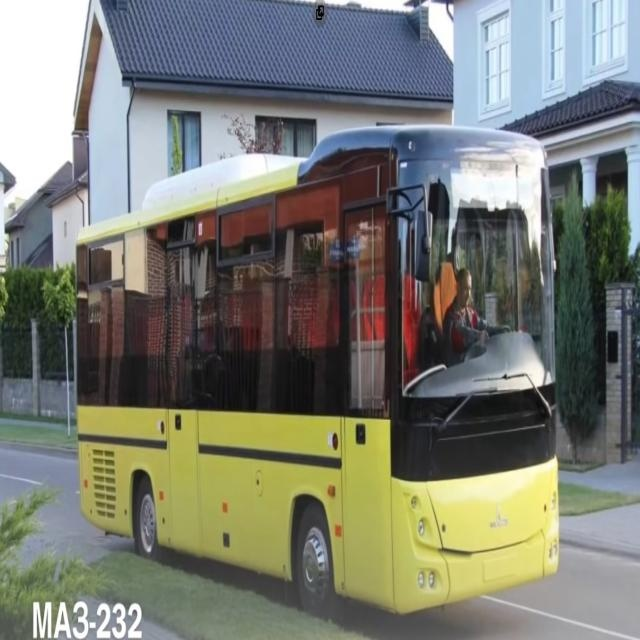Bus: (71, 115, 562, 626)
